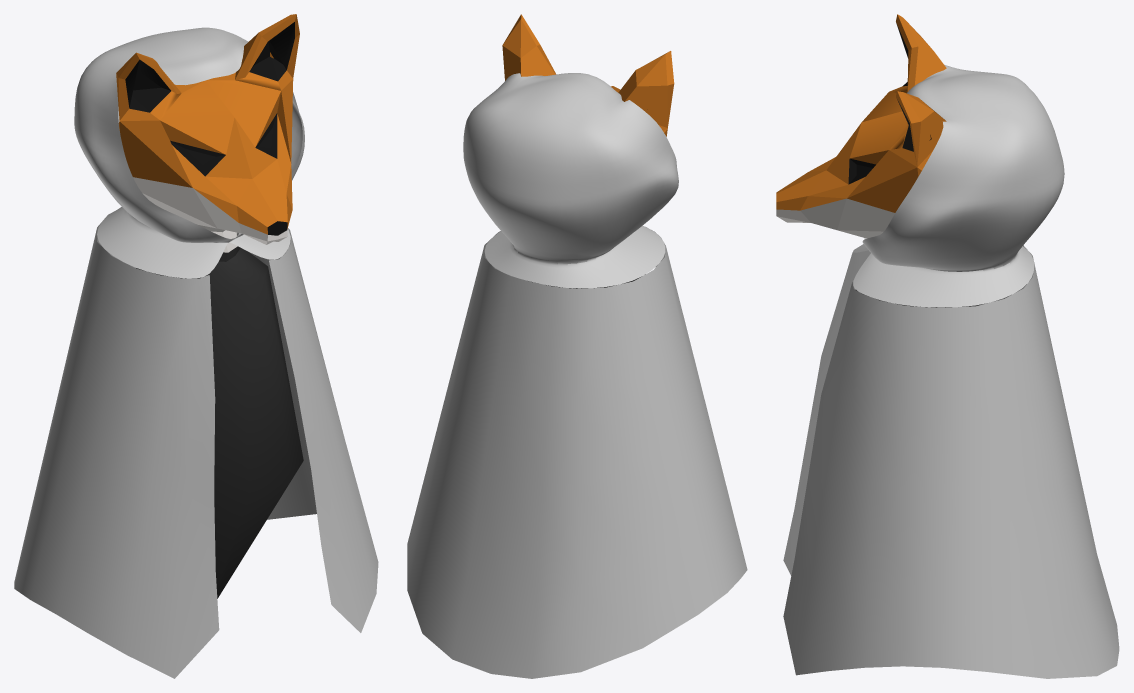
The model's file is Fox Imaginary Friend.fbx.
3 renders of one model, left to right at view 1: azimuth 30°, elevation 25°; view 2: azimuth 150°, elevation 25°; view 3: azimuth 270°, elevation 25°, orthographic. The views are drawn at different scales.
Visible parts, largest first — view 1: body; view 2: body; view 3: body.
Part boxes in pixels (x1,y1,x2,y2): body: [14, 14, 378, 678]; body: [407, 14, 747, 678]; body: [776, 14, 1119, 678].
Size of the model in its own units: 402 by 711 by 370.
